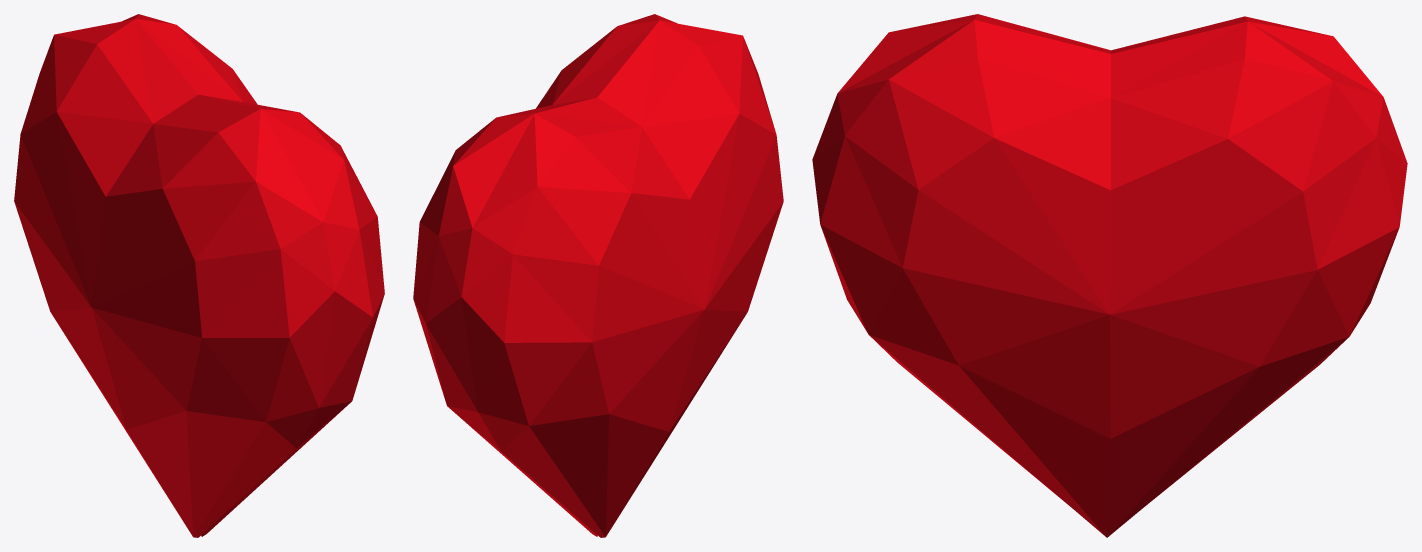
File: heart.glb
The picture shows the model from 3 angles, left to right: view 1: azimuth 30°, elevation 25°; view 2: azimuth 150°, elevation 25°; view 3: azimuth 270°, elevation 25°; orthographic projection. The views are drawn at different scales.
Visible parts, largest first — view 1: Cloner_1; view 2: Cloner_1; view 3: Cloner_1.
Part boxes in pixels (x1,y1,x2,y2): Cloner_1: (14, 14, 384, 537); Cloner_1: (413, 14, 783, 537); Cloner_1: (812, 14, 1407, 537).
Bounding box in the file's own units: 0.3943 × 0.8319 × 0.8687.
